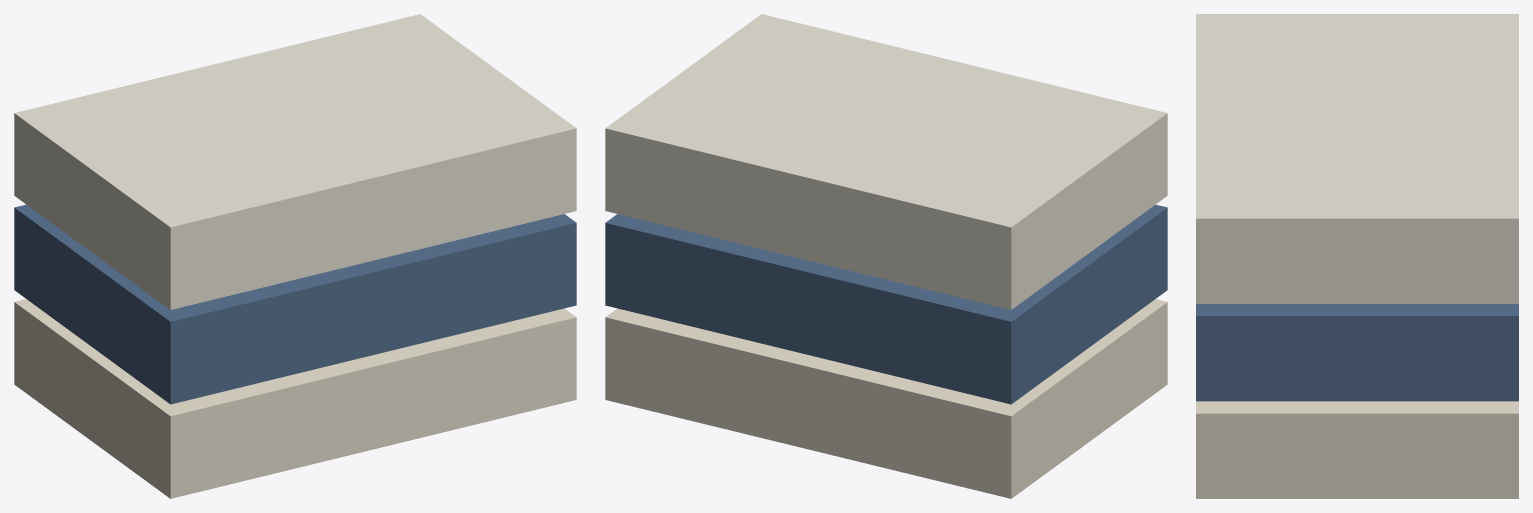
File: FD_Towel_Folded_01.glb
The picture shows the model from 3 angles, left to right: view 1: azimuth 30°, elevation 25°; view 2: azimuth 150°, elevation 25°; view 3: azimuth 270°, elevation 25°; orthographic projection. The views are drawn at different scales.
Visible parts, largest first — view 1: FD_Towel_Folded_01; view 2: FD_Towel_Folded_01; view 3: FD_Towel_Folded_01.
Part boxes in pixels (<box>): FD_Towel_Folded_01: <box>14,14,576,498</box>; FD_Towel_Folded_01: <box>605,14,1167,498</box>; FD_Towel_Folded_01: <box>1196,14,1518,498</box>.
Size of the model in its own units: 0.36 by 0.23 by 0.24.
1 material, 1 textured.
